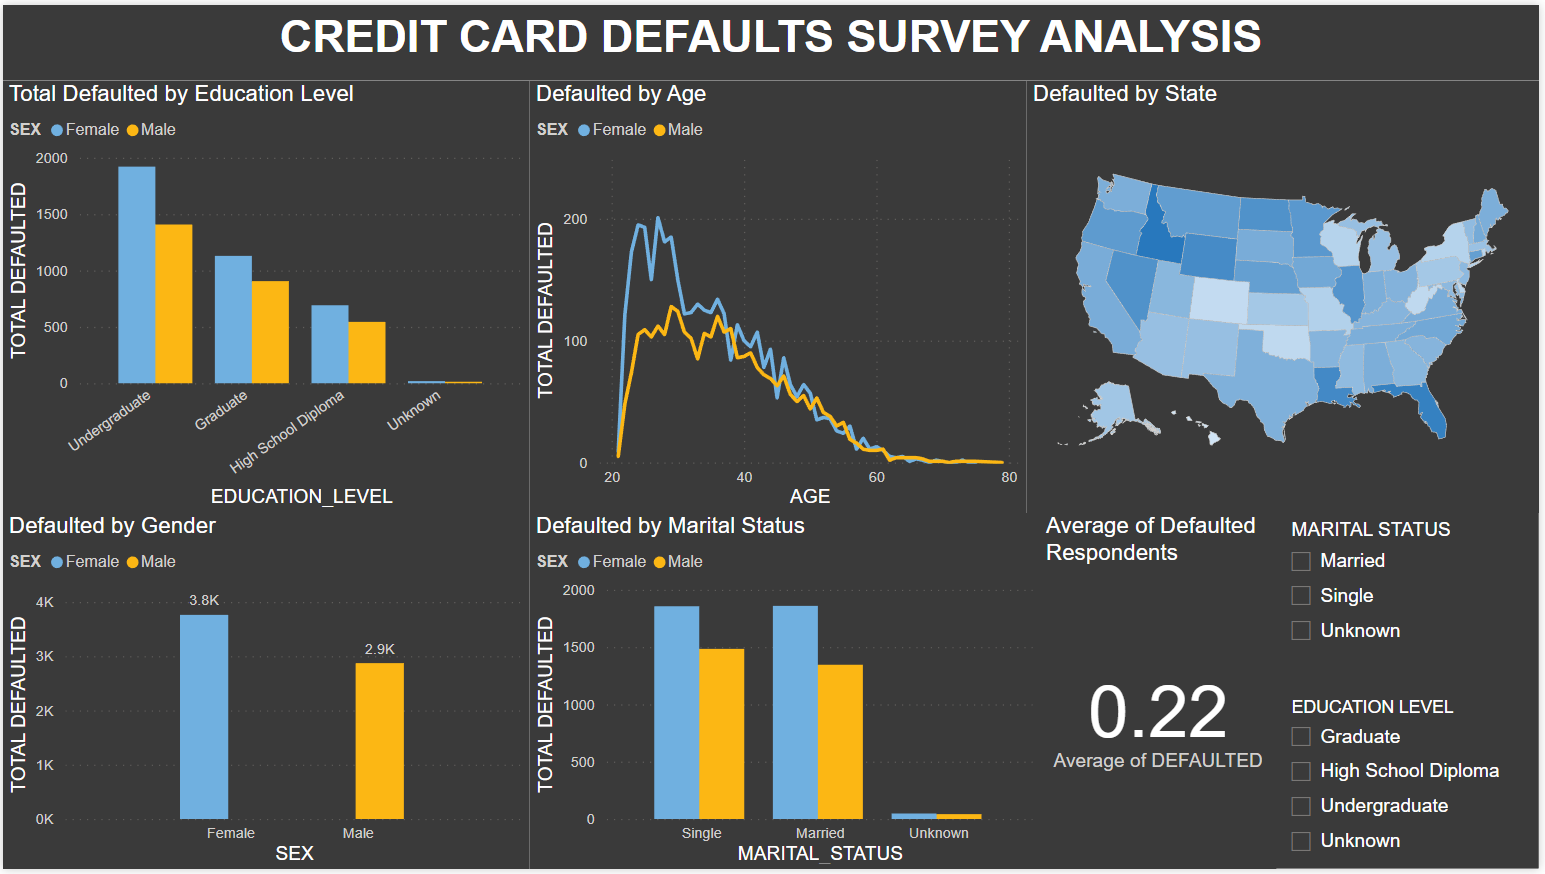

This screenshot's page, from the dashboard's own definition file:
{"tool":"powerbi","page":{"name":"Defaults Analysis","canvas":[1280,720],"ordinal":0},"visuals":[{"type":"clusteredColumnChart","title":"Total Defaulted by Education Level","fields":{"Category":["Data.EDUCATION_LEVEL"],"Y":["Sum(Data.DEFAULTED)"],"Series":["Data.SEX"]},"box":[0,63,439,360],"z":0},{"type":"lineChart","title":"Defaulted by Age","fields":{"Category":["Data.AGE"],"Y":["Sum(Data.DEFAULTED)"],"Series":["Data.SEX"]},"box":[439,63,414,360],"z":1000},{"type":"clusteredColumnChart","title":"Defaulted by Gender","fields":{"Y":["Sum(Data.DEFAULTED)"],"Category":["Data.SEX"],"Series":["Data.SEX"]},"box":[0,423,439,297],"z":2000},{"type":"shapeMap","title":"Defaulted by State","fields":{"Category":["Data.STATE"],"Value":["Sum(Data.DEFAULTED)"]},"box":[853,63,427,360],"z":3000},{"type":"clusteredColumnChart","title":"Defaulted by Marital Status","fields":{"Y":["Sum(Data.DEFAULTED)"],"Category":["Data.MARITAL_STATUS"],"Series":["Data.SEX"]},"box":[439,423,425,297],"z":4000},{"type":"card","title":"Average of Defaulted Respondents","fields":{"Values":["Avg(Data.DEFAULTED)"]},"box":[864,423,197,297],"z":5000},{"type":"slicer","fields":{"Values":["Data.EDUCATION_LEVEL"]},"box":[1061,572,219,148],"z":6000},{"type":"slicer","fields":{"Values":["Data.MARITAL_STATUS"]},"box":[1061,423,219,149],"z":7000},{"type":"textbox","box":[0,0,1280,63],"z":8000}]}

Visuals, with their boxes in screenshot pixels (x1, y1, x2, y2), scaled from the page's 1280x720 canvas onto the 1545x874 screenshot:
"Total Defaulted by Education Level" clusteredColumnChart: x1=0 y1=76 x2=530 y2=513
"Defaulted by Age" lineChart: x1=530 y1=76 x2=1030 y2=513
"Defaulted by Gender" clusteredColumnChart: x1=0 y1=513 x2=530 y2=873
"Defaulted by State" shapeMap: x1=1030 y1=76 x2=1544 y2=513
"Defaulted by Marital Status" clusteredColumnChart: x1=530 y1=513 x2=1043 y2=873
"Average of Defaulted Respondents" card: x1=1043 y1=513 x2=1281 y2=873
slicer - Data.EDUCATION_LEVEL: x1=1281 y1=694 x2=1544 y2=873
slicer - Data.MARITAL_STATUS: x1=1281 y1=513 x2=1544 y2=694
textbox: x1=0 y1=0 x2=1544 y2=76
